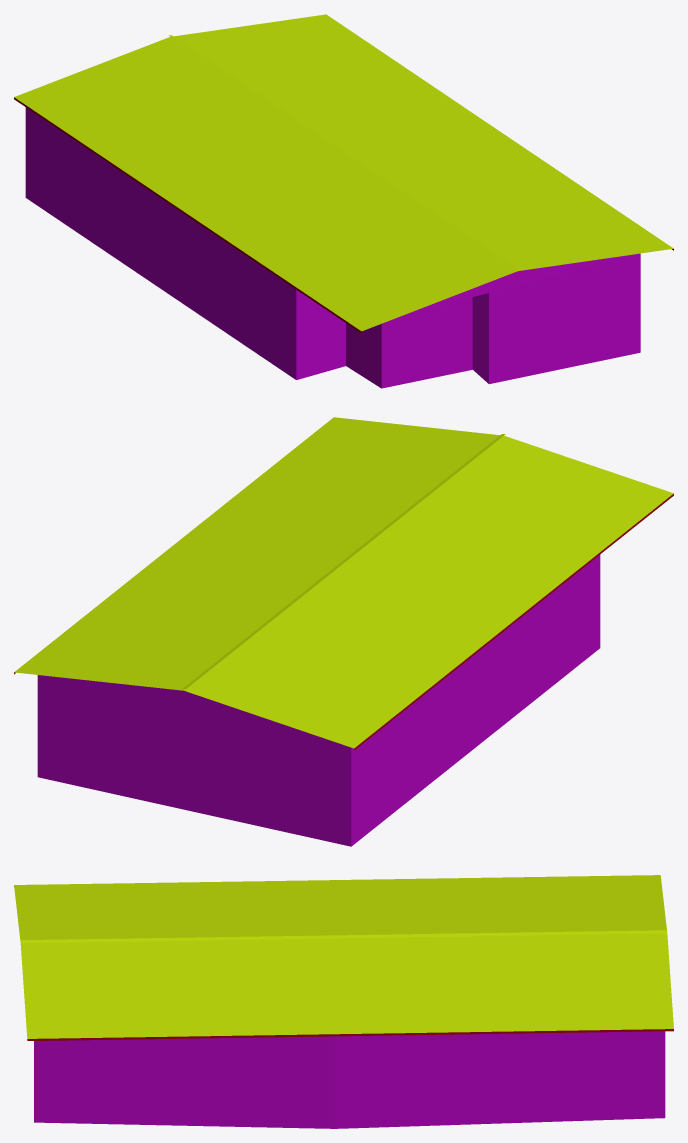
File: ces_30.glb
The picture shows the model from 3 angles, top to bottom: view 1: azimuth 30°, elevation 25°; view 2: azimuth 150°, elevation 25°; view 3: azimuth 270°, elevation 25°; orthographic projection. The views are drawn at different scales.
Visible parts, largest first — view 1: ces_30; view 2: ces_30; view 3: ces_30.
Part boxes in pixels (<box>): ces_30: <box>14,14,673,388</box>; ces_30: <box>14,417,673,846</box>; ces_30: <box>14,875,673,1128</box>.
Bounding box in the file's own units: 19.69 × 6.66 × 33.5.
